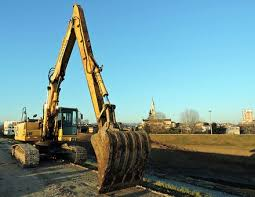excavator: (10, 6, 153, 195)
